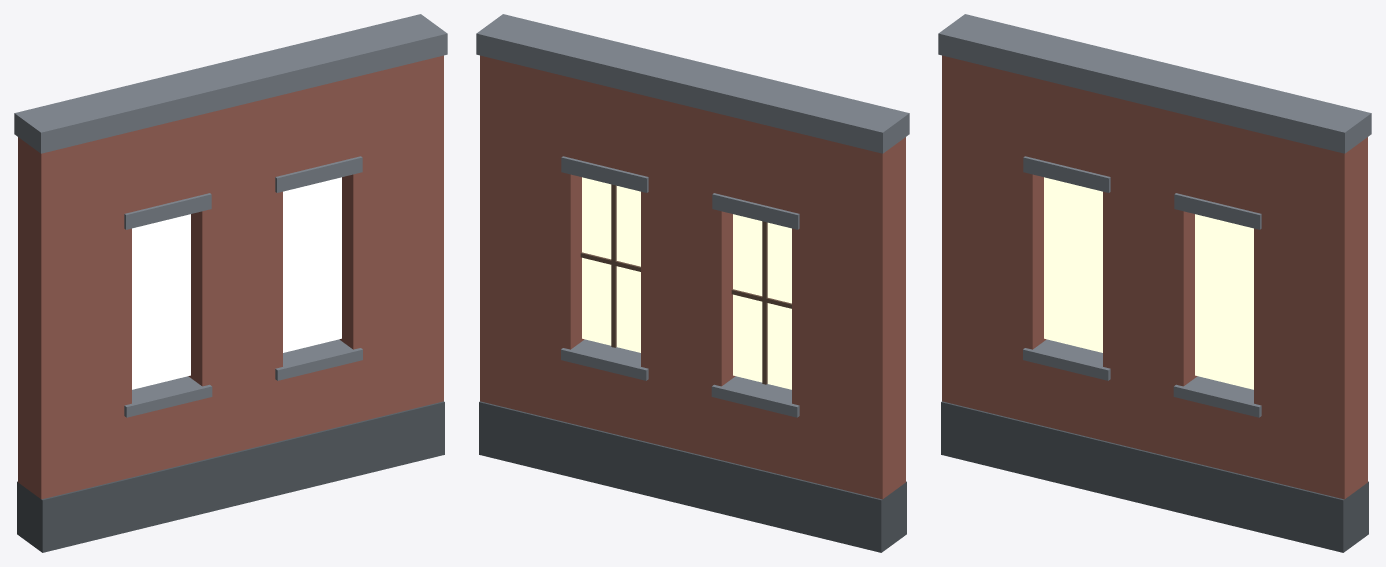
File: arkham_wall_bricksashwindow.glb
The picture shows the model from 3 angles, left to right: view 1: azimuth 30°, elevation 25°; view 2: azimuth 150°, elevation 25°; view 3: azimuth 330°, elevation 25°; orthographic projection.
Visible parts, largest first — view 1: Arkham_Wall_BrickSashWindow; view 2: Arkham_Wall_BrickSashWindow; view 3: Arkham_Wall_BrickSashWindow.
Boxes of the visible parts, left/top/right/bottom form: Arkham_Wall_BrickSashWindow: left=14, top=14, right=447, bottom=552; Arkham_Wall_BrickSashWindow: left=476, top=14, right=909, bottom=552; Arkham_Wall_BrickSashWindow: left=938, top=14, right=1371, bottom=552.
Bounding box in the file's own units: 4.04 × 4 × 0.48.
